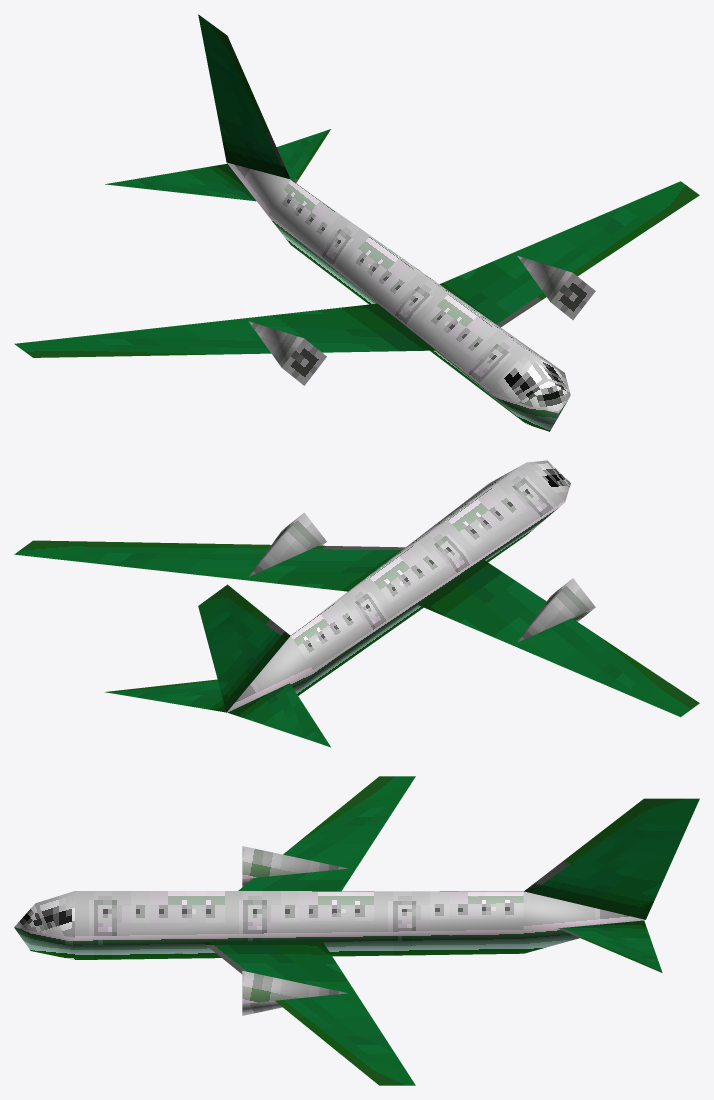
3 renders of one model, top to bottom at view 1: azimuth 30°, elevation 25°; view 2: azimuth 150°, elevation 25°; view 3: azimuth 270°, elevation 25°, orthographic. The views are drawn at different scales.
Parts seen in each view (by area): view 1: mesh_0; view 2: mesh_0; view 3: mesh_0.
Part boxes in pixels (left/top/right/bottom): mesh_0: left=14, top=14, right=699, bottom=431; mesh_0: left=14, top=460, right=699, bottom=747; mesh_0: left=14, top=776, right=699, bottom=1085.
Size of the model in its own units: 49.62 by 12.08 by 46.49.
1 material, 1 textured.
